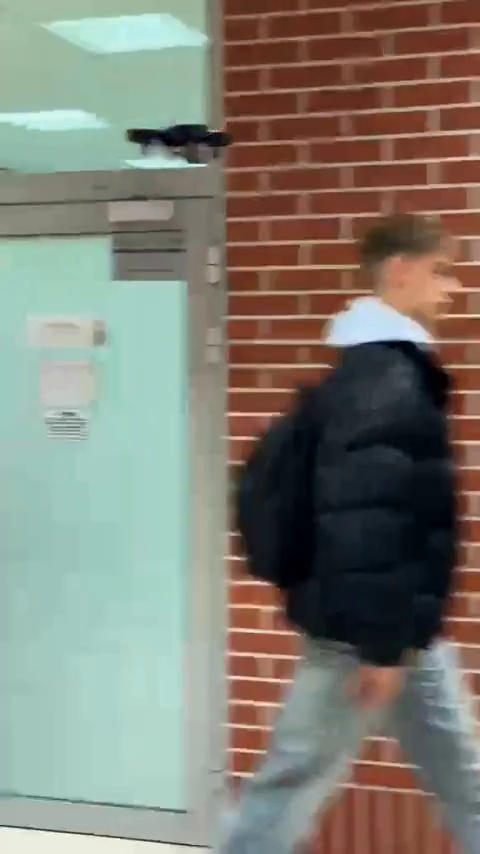drone: (126, 123, 231, 160)
no vest: (224, 225, 478, 850)
